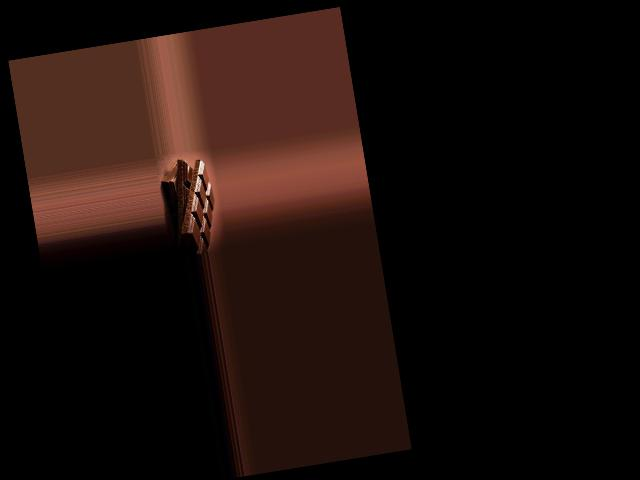chocolate: (164, 155, 221, 254)
